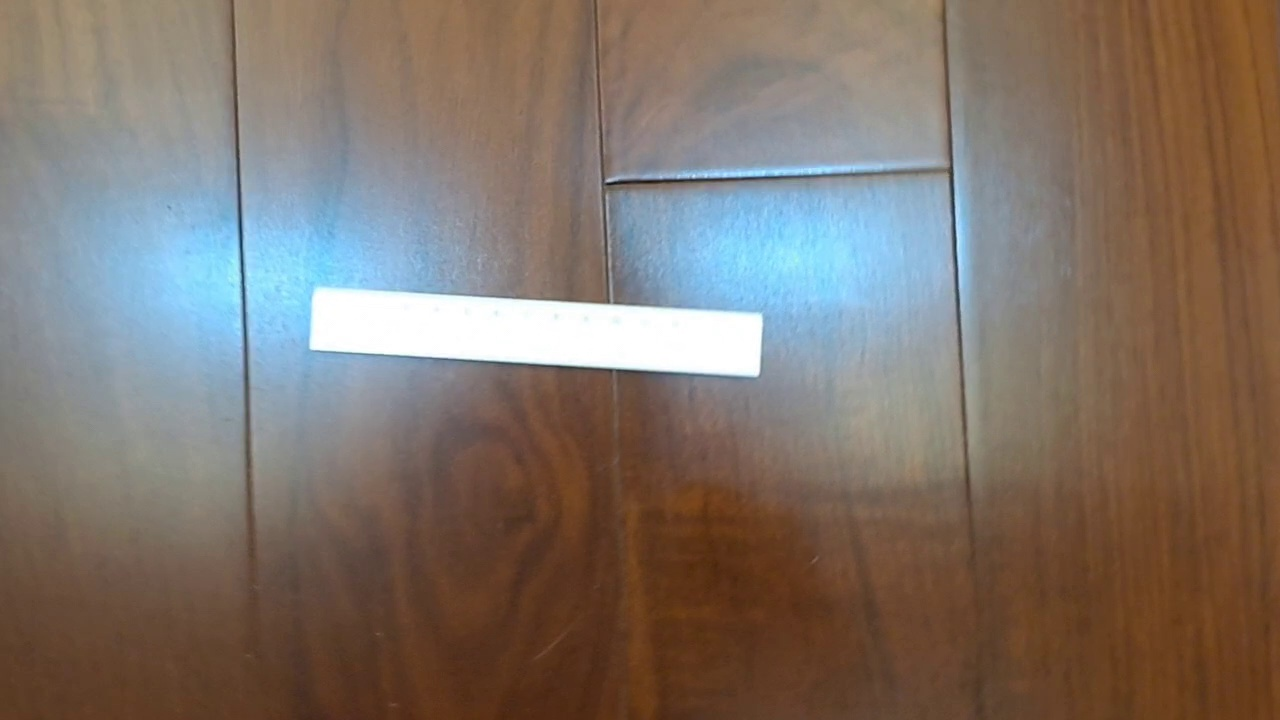ruler: (308, 285, 764, 380)
